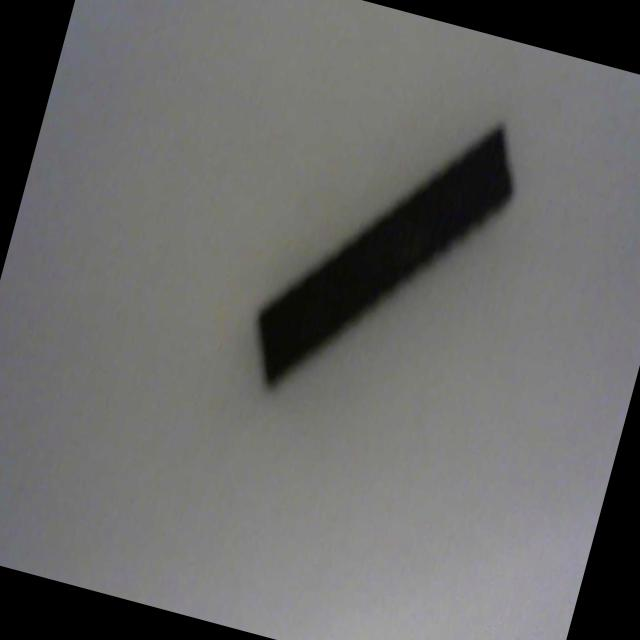atmega: (235, 69, 533, 440)
